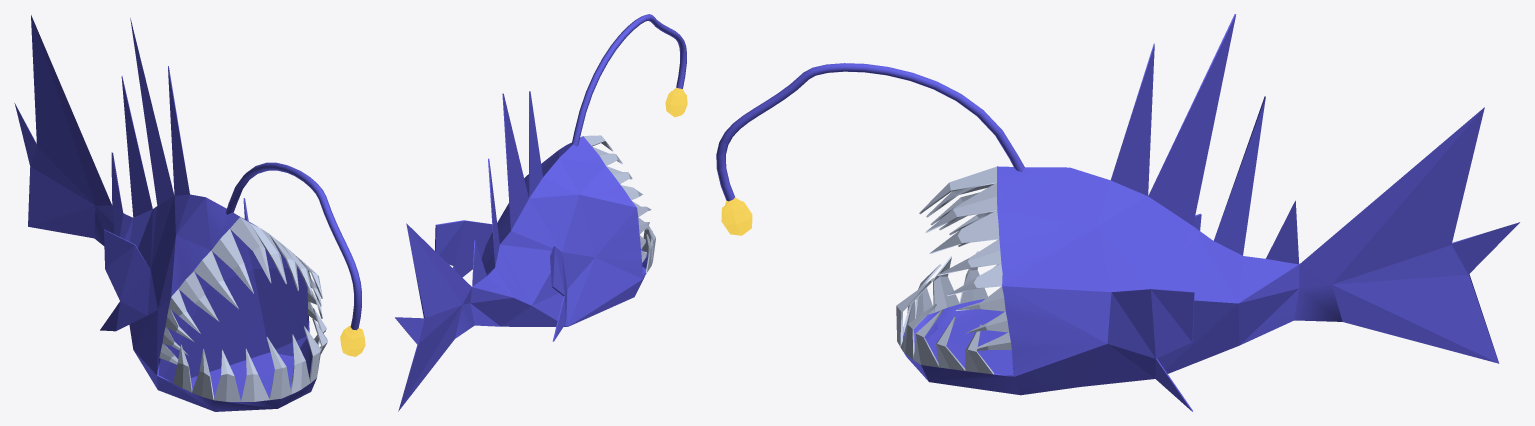
The model's file is pez.glb.
3 views of the same model, side by side, from view 1: azimuth 30°, elevation 25°; view 2: azimuth 150°, elevation 25°; view 3: azimuth 270°, elevation 25° (orthographic). The views are drawn at different scales.
Visible parts, largest first — view 1: pez.001; view 2: pez.001; view 3: pez.001.
Part boxes in pixels (x1,y1,x2,y2): pez.001: [14, 15, 365, 411]; pez.001: [395, 14, 687, 411]; pez.001: [716, 14, 1519, 411].
Size of the model in its own units: 0.1312 by 0.2266 by 0.4659.
